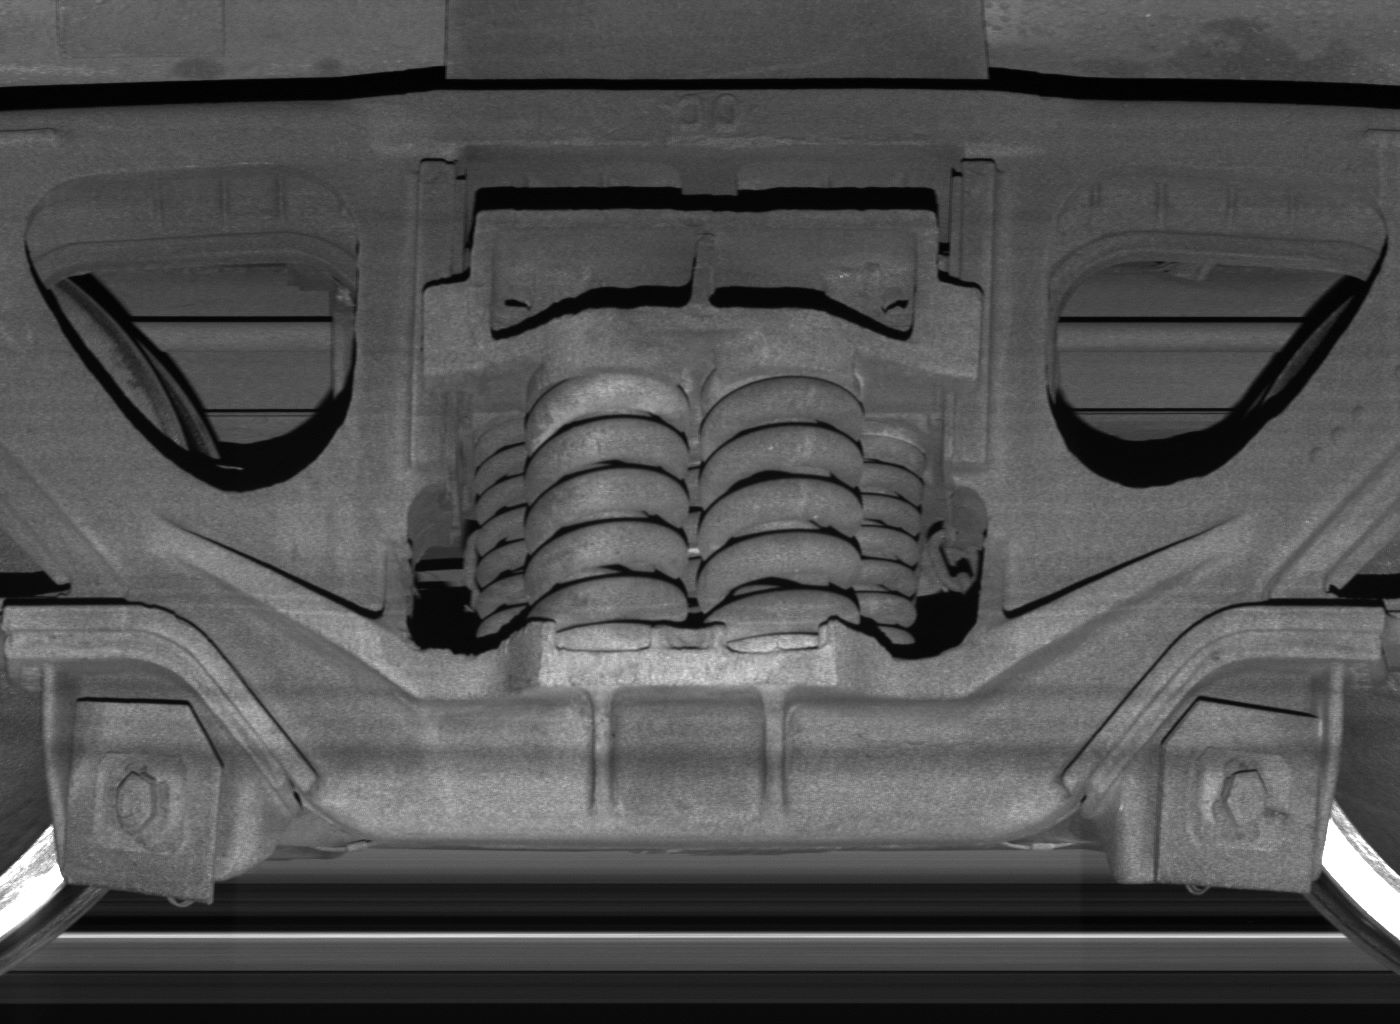Locking plate: (43, 657, 260, 907)
normal: (1116, 659, 1343, 895)
